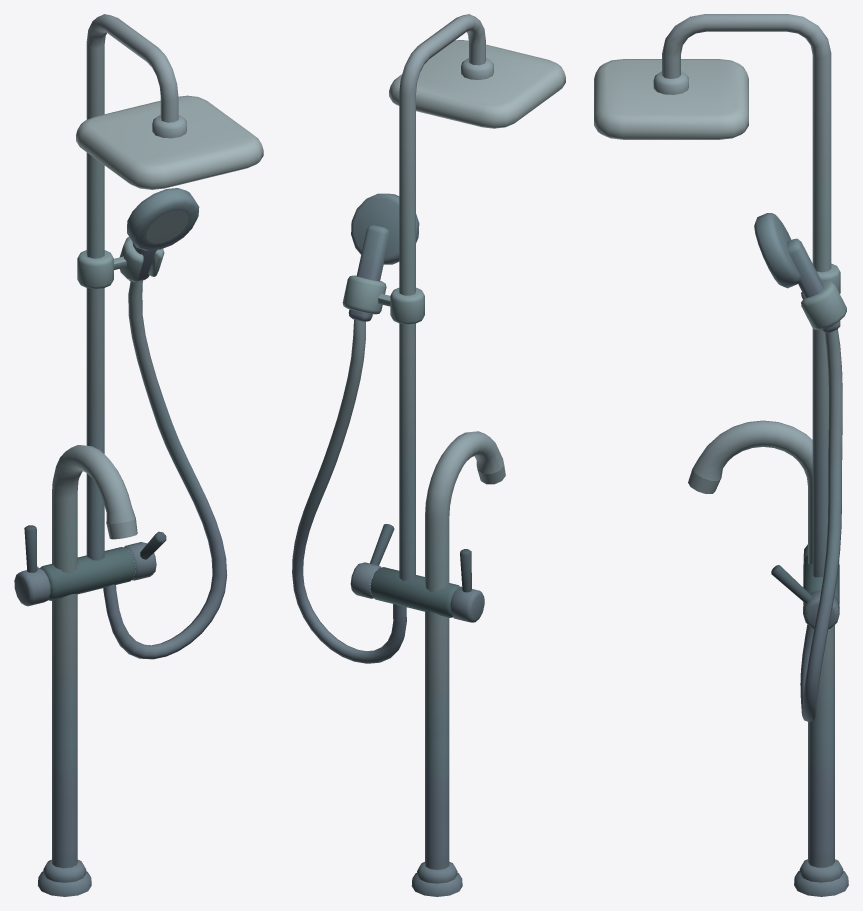
File: Mixer_02.glb
The picture shows the model from 3 angles, left to right: view 1: azimuth 30°, elevation 25°; view 2: azimuth 150°, elevation 25°; view 3: azimuth 270°, elevation 25°; orthographic projection. The views are drawn at different scales.
Parts seen in each view (by area): view 1: Mixer_02; view 2: Mixer_02; view 3: Mixer_02.
Boxes of the visible parts, x1,y1,x2,y2 form: Mixer_02: (14,14,263,896); Mixer_02: (292,14,565,896); Mixer_02: (594,14,848,896).
Bounding box in the file's own units: 0.5324 × 2.22 × 0.5782.
Materials: 1 (1 with a texture image).
